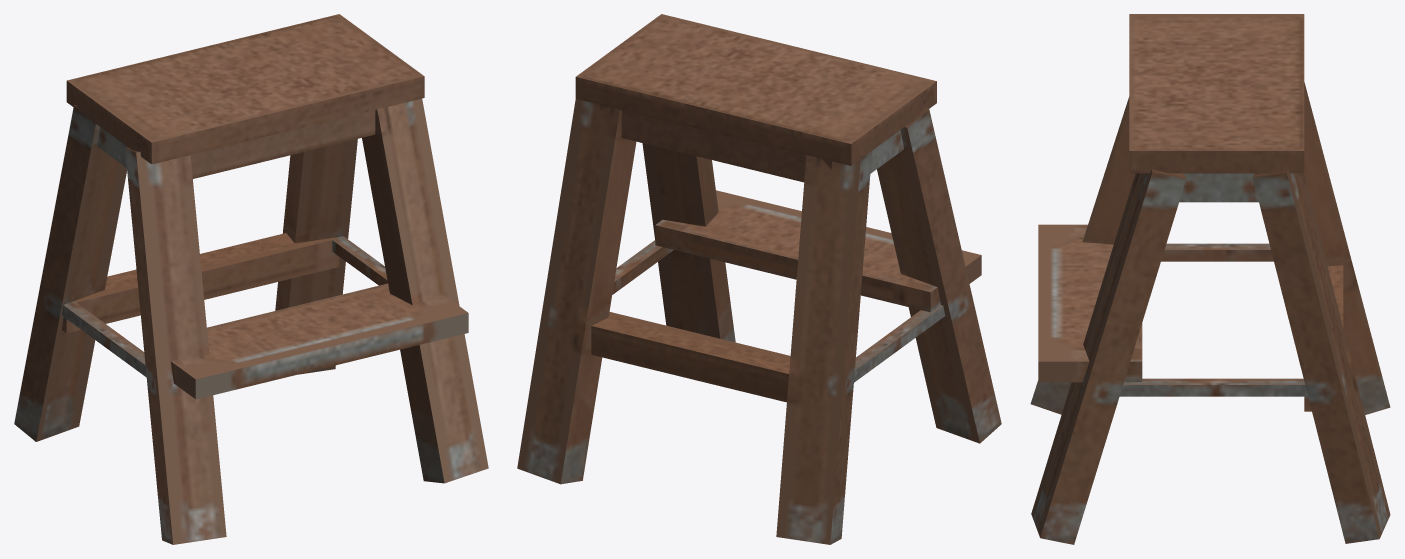
File: StepStool.fbx
3 renders of one model, left to right at view 1: azimuth 30°, elevation 25°; view 2: azimuth 150°, elevation 25°; view 3: azimuth 270°, elevation 25°, orthographic. The views are drawn at different scales.
Visible parts, largest first — view 1: StepStool_Low; view 2: StepStool_Low; view 3: StepStool_Low.
Part boxes in pixels (<box>): StepStool_Low: <box>14,14,488,544</box>; StepStool_Low: <box>517,14,1001,544</box>; StepStool_Low: <box>1030,14,1390,544</box>.
Size of the model in its own units: 0.5782 by 0.6556 by 0.5548.
